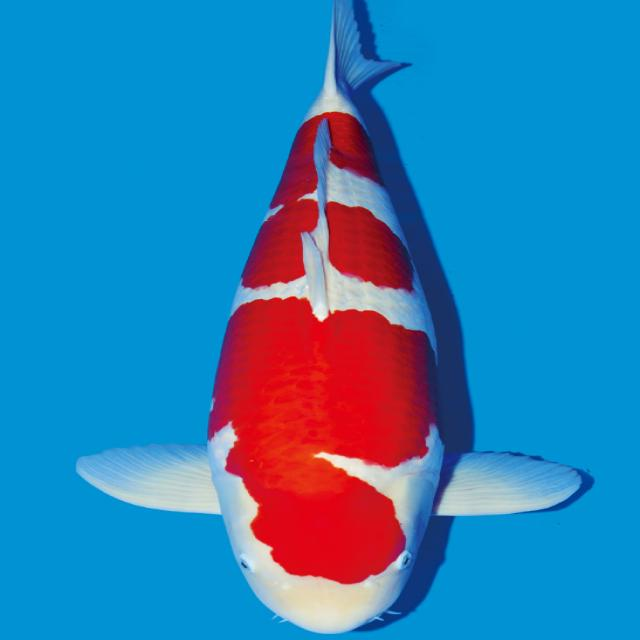Kohaku: (75, 0, 592, 634)
